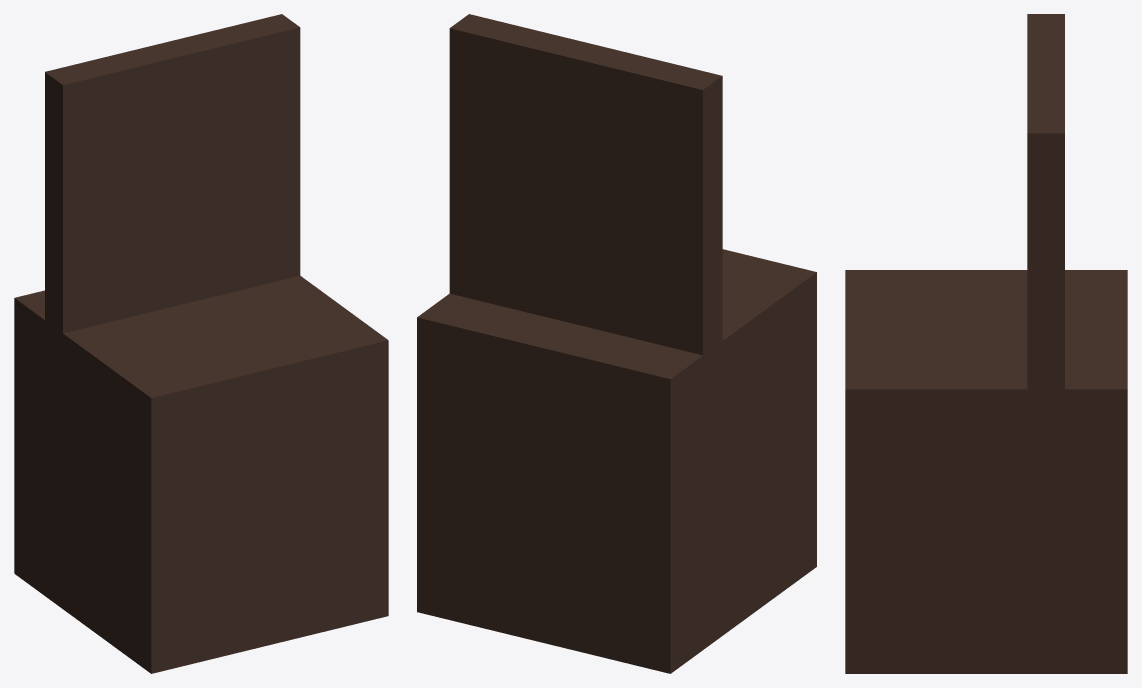
File: cadeira_medieval.glb
The picture shows the model from 3 angles, left to right: view 1: azimuth 30°, elevation 25°; view 2: azimuth 150°, elevation 25°; view 3: azimuth 270°, elevation 25°; orthographic projection. The views are drawn at different scales.
Visible parts, largest first — view 1: Malha_0; view 2: Malha_0; view 3: Malha_0.
Part boxes in pixels (<box>): Malha_0: <box>14,14,388,673</box>; Malha_0: <box>417,14,816,673</box>; Malha_0: <box>845,14,1127,673</box>.
Bounding box in the file's own units: 0.45 × 0.95 × 0.45.
